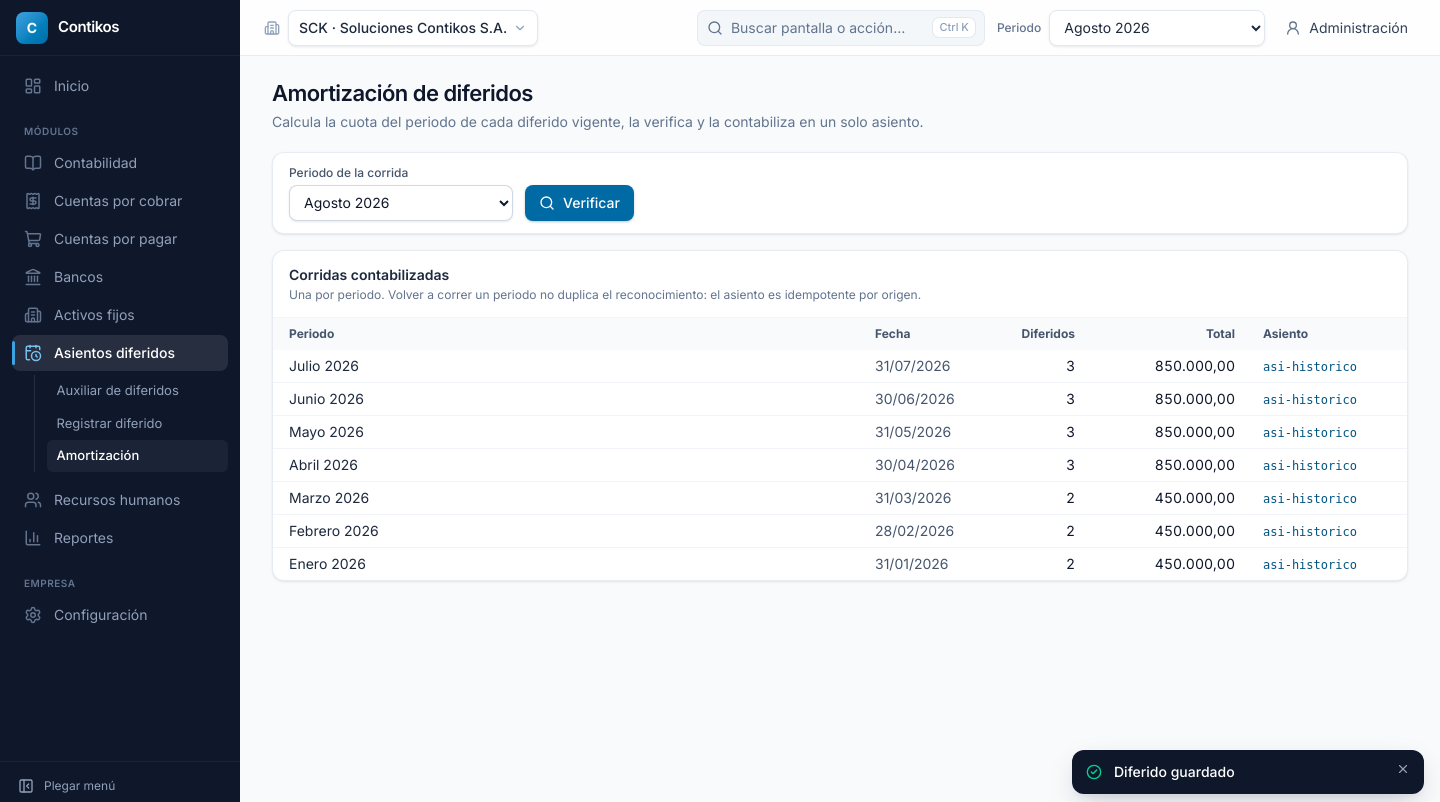
Test: Amortización de diferidos › previsualiza agosto de 2026 con sus tres diferidos y sin escribir nada
Expected: the dropdown labelled "Periodo de la corrida" shows "Agosto 2026", [289, 184, 513, 220]
Click the button "Verificar". click: x=579, y=202
box: [525, 184, 634, 220]
(page scrolled)
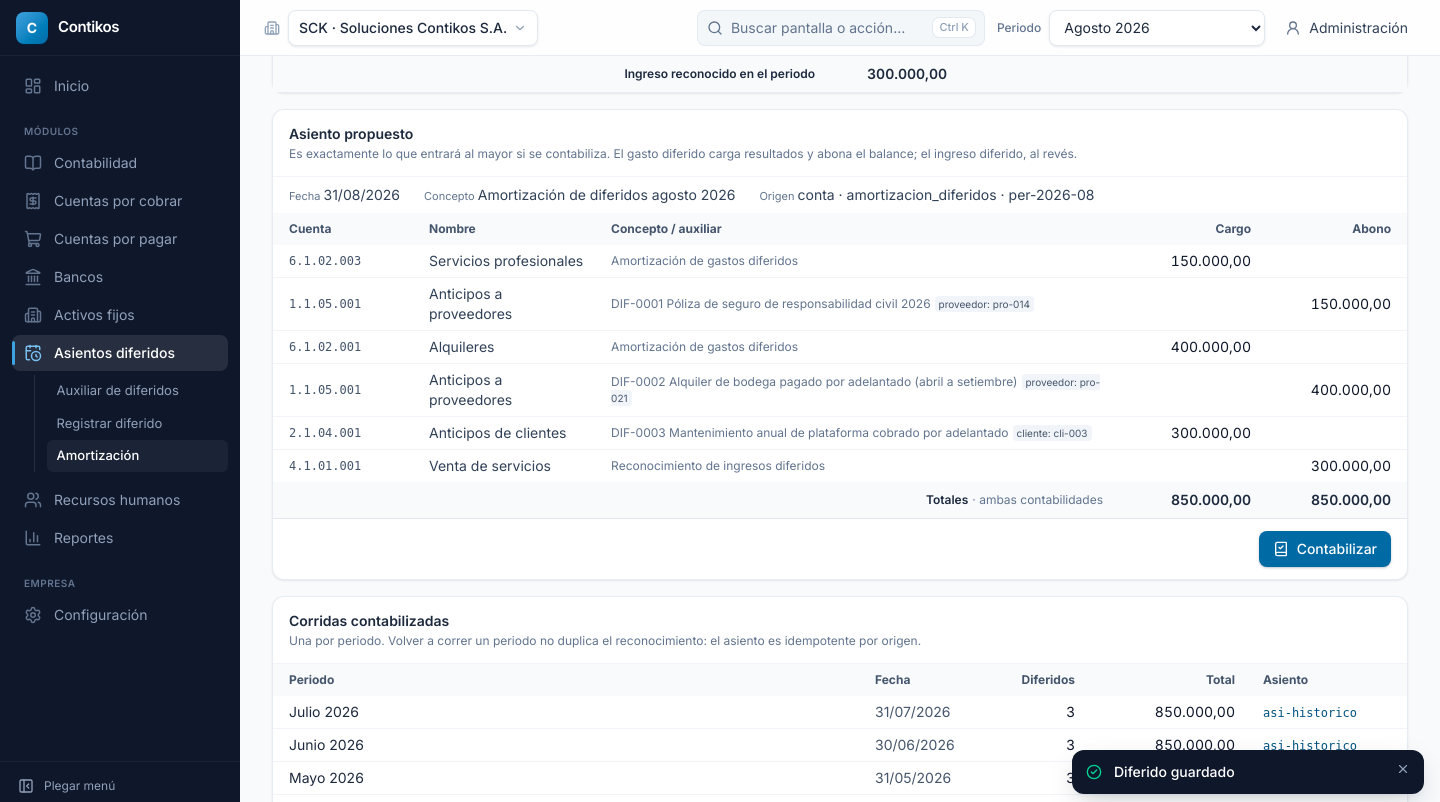
Now the text "Servicios profesionales" is shown, box [417, 245, 599, 277]
Now the text "Anticipos de clientes" is shown, box [417, 416, 599, 449]
